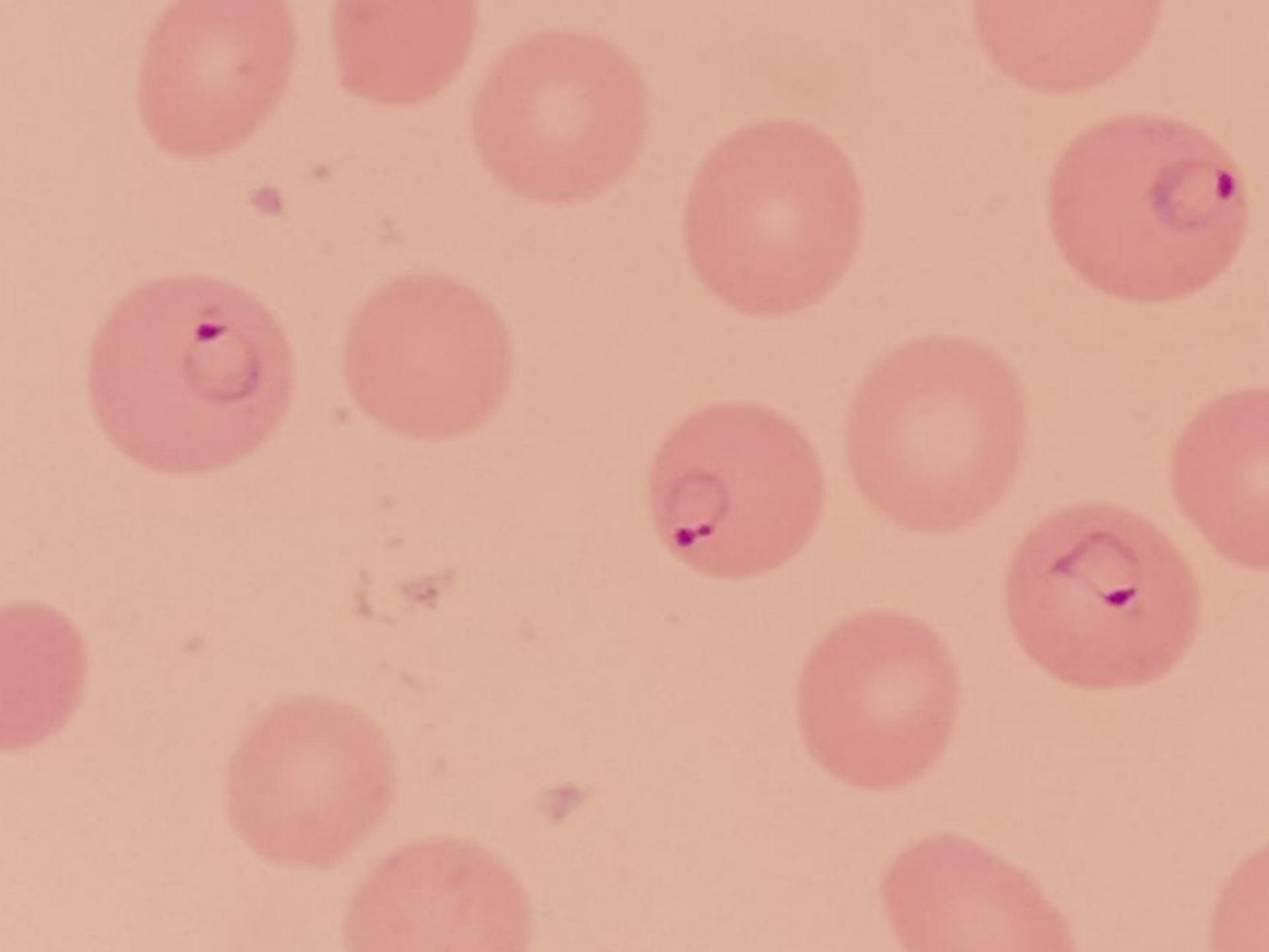Infected: (93, 265, 298, 479), (1046, 113, 1253, 306), (1005, 501, 1199, 688), (643, 402, 823, 582)
Uninfected: (842, 333, 1021, 542), (683, 122, 855, 320), (227, 694, 402, 879), (804, 602, 958, 798), (344, 263, 514, 439), (476, 38, 645, 206), (145, 3, 298, 160), (879, 827, 1069, 952), (348, 833, 533, 952), (326, 0, 480, 117)
